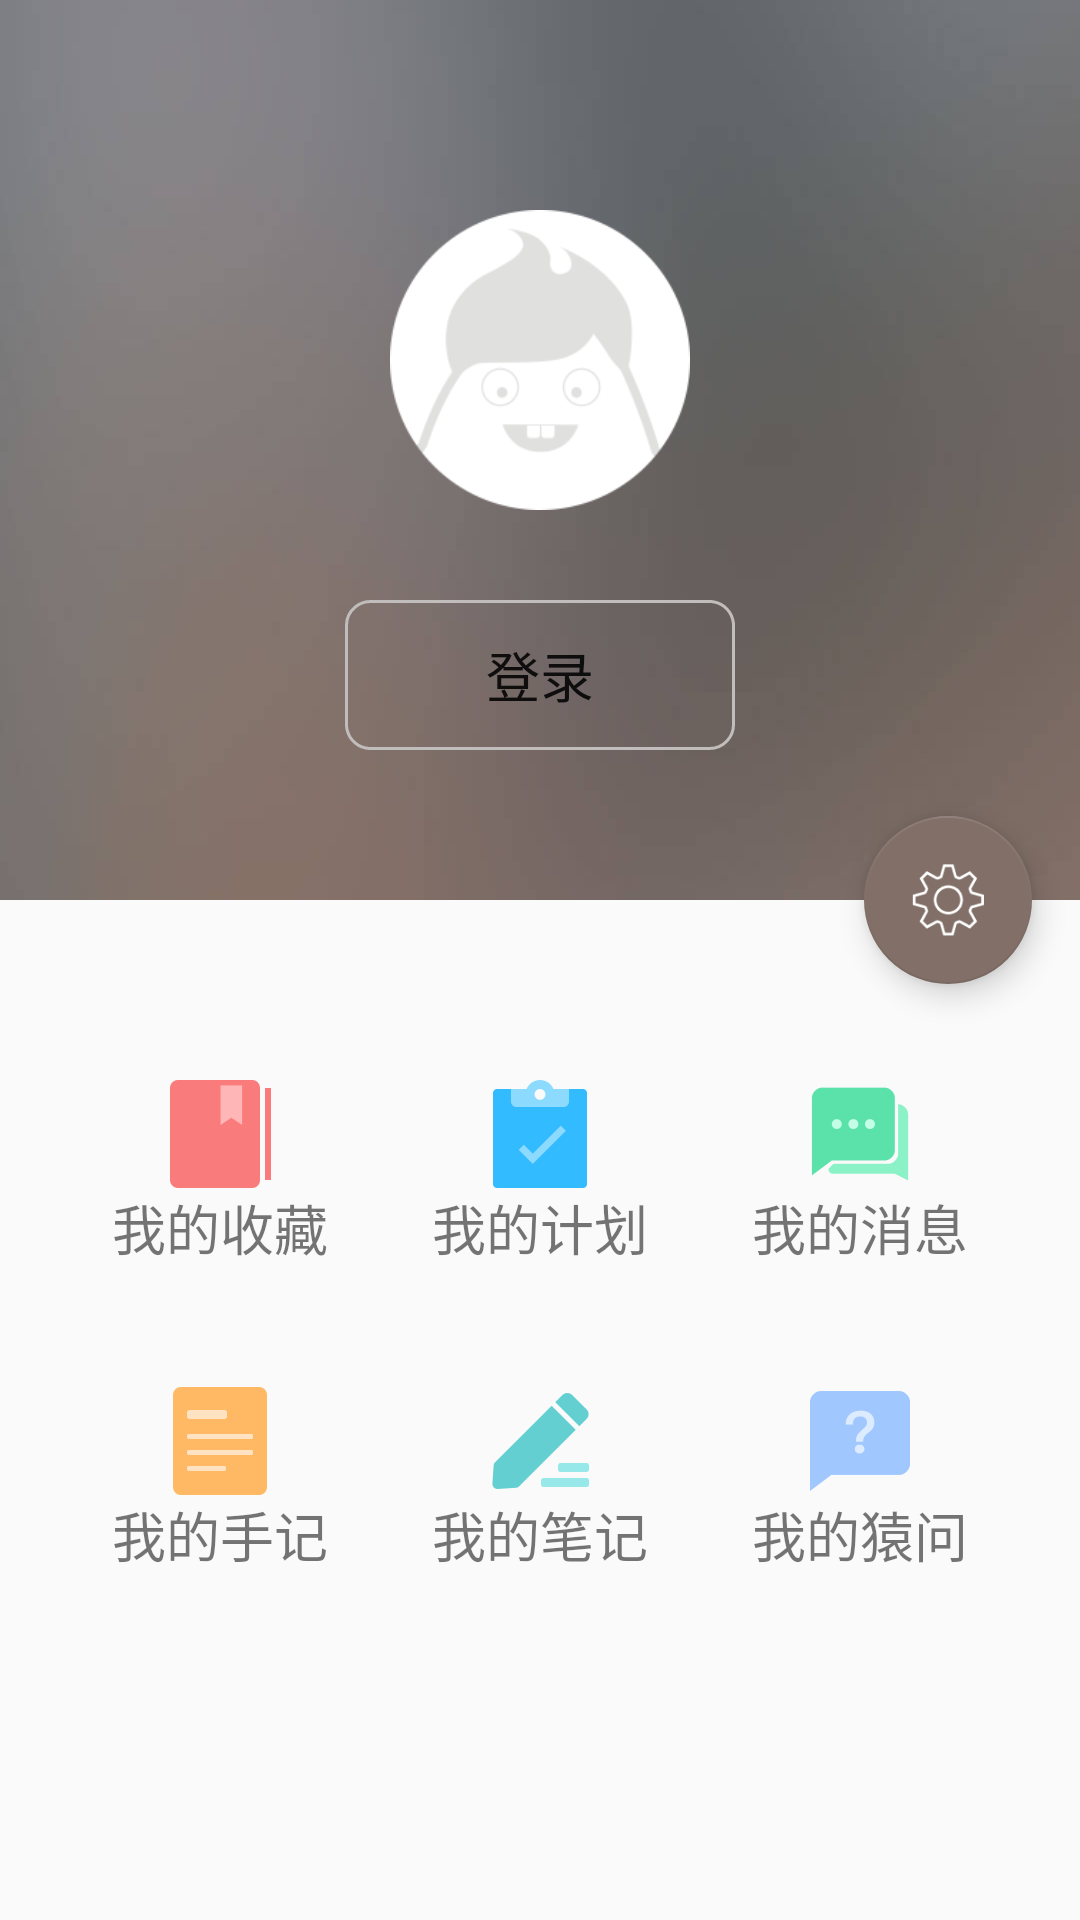

Screen size 1080x1920. Icon name, then its center in pixels as (x=x, y=y):
personal user: (x=540, y=360)
settings: (x=948, y=900)
